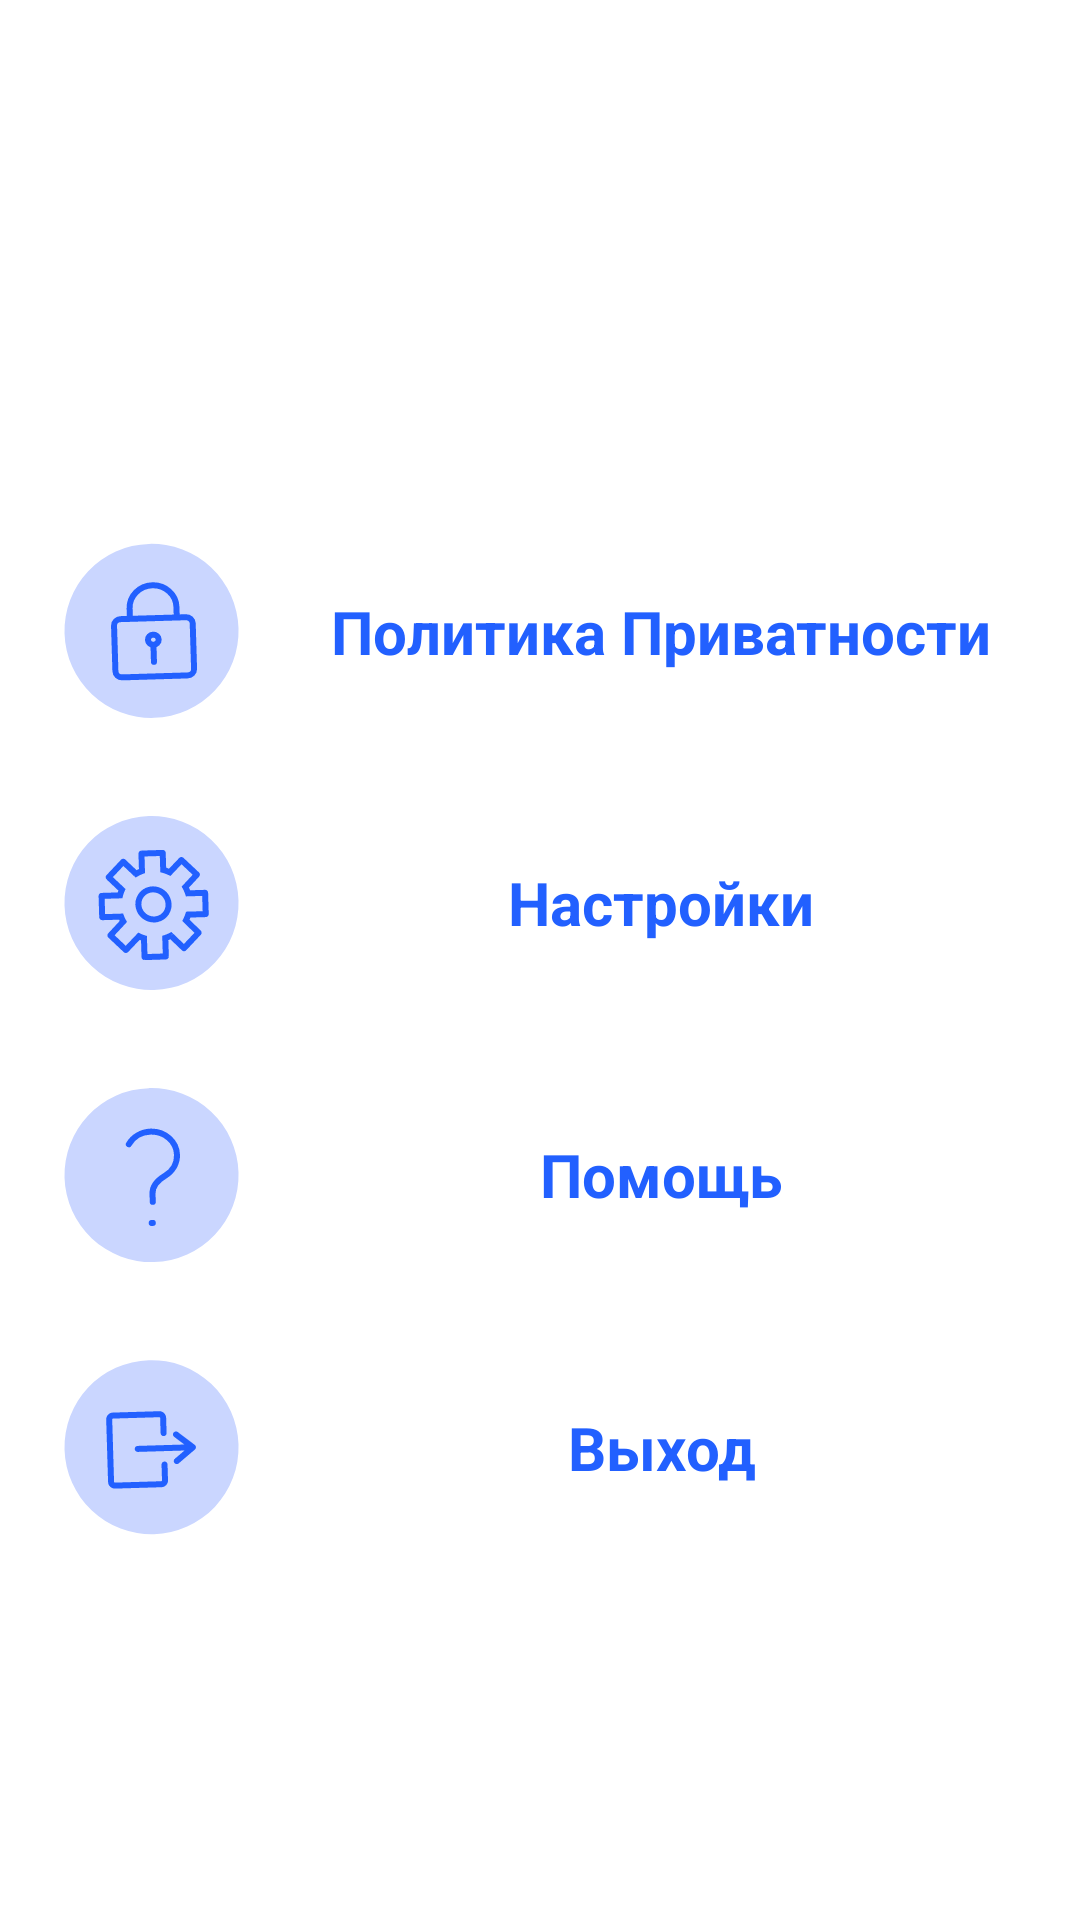

Named icons in this screenshot (1080x1920) and their bounding boxes, [x1, y1, x2, y2]:
out: [64, 1360, 239, 1534]
